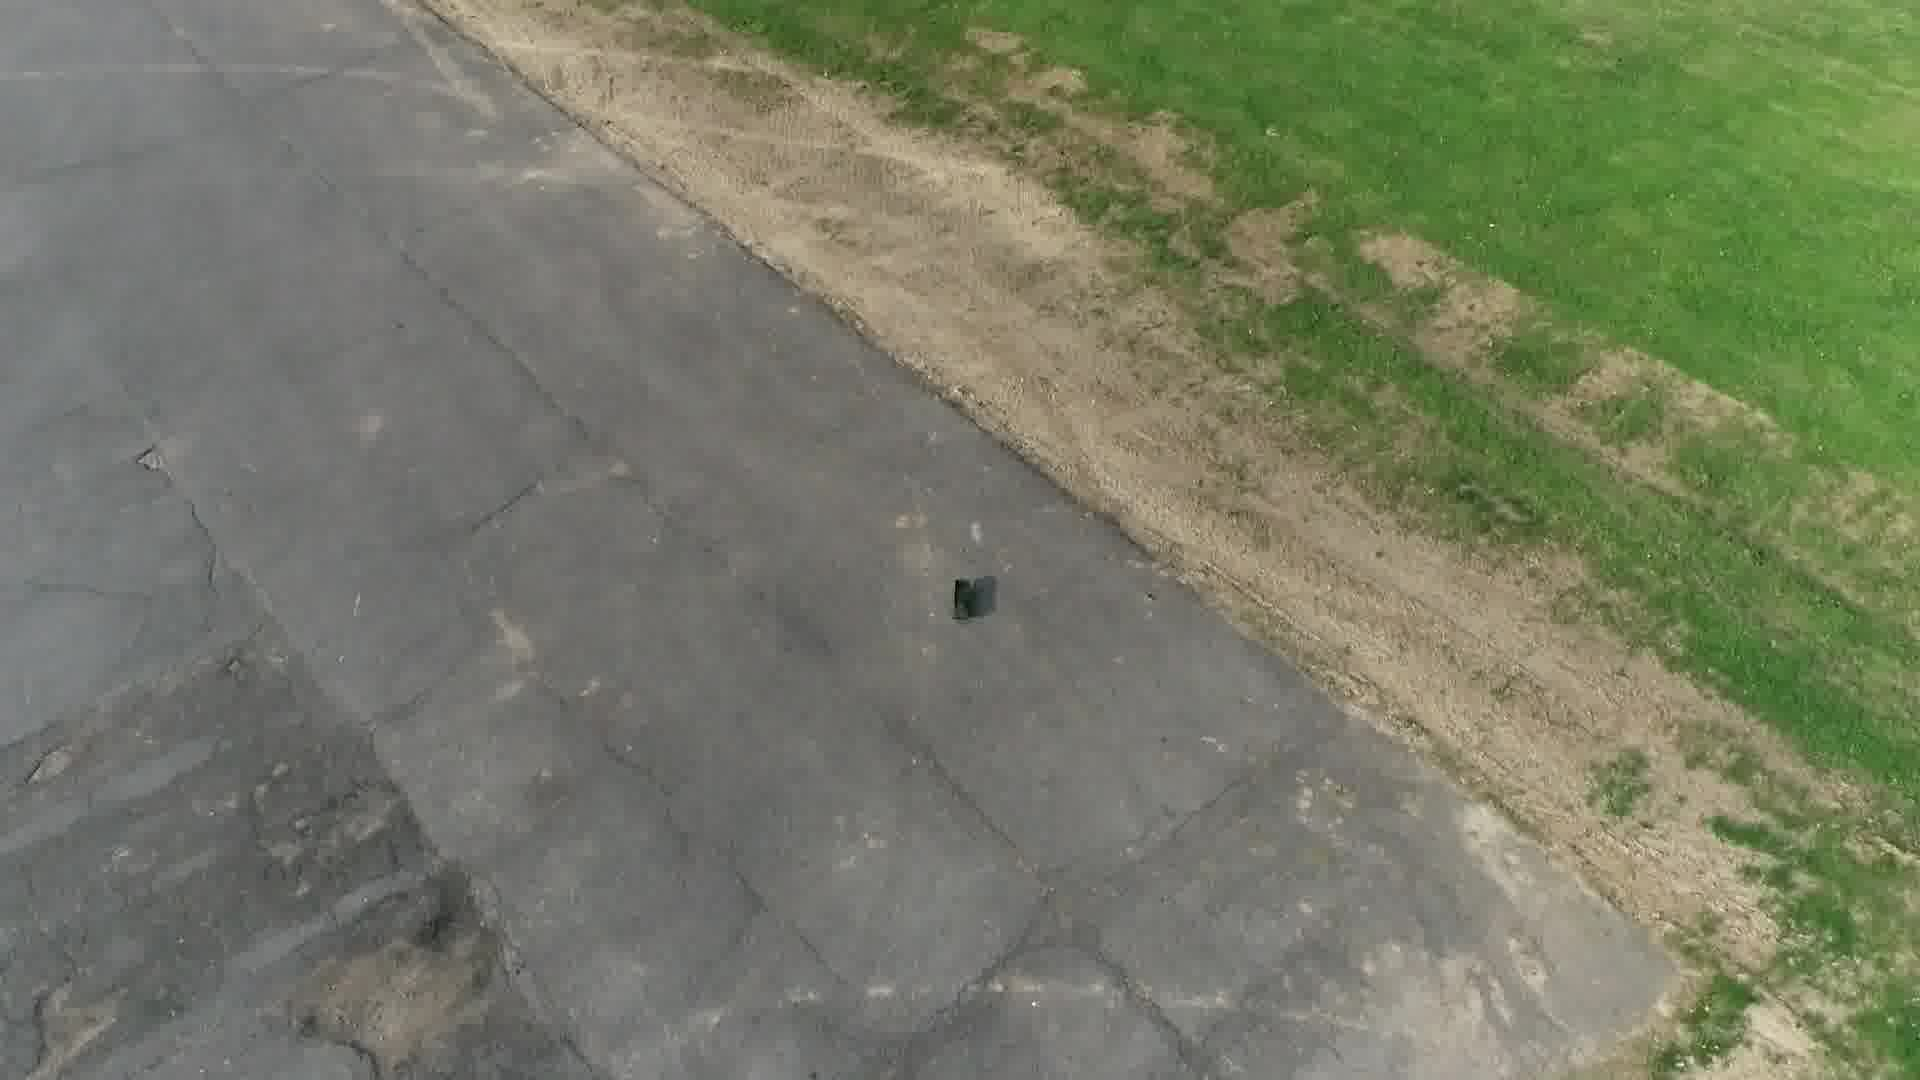transporter9: (949, 578, 977, 626)
